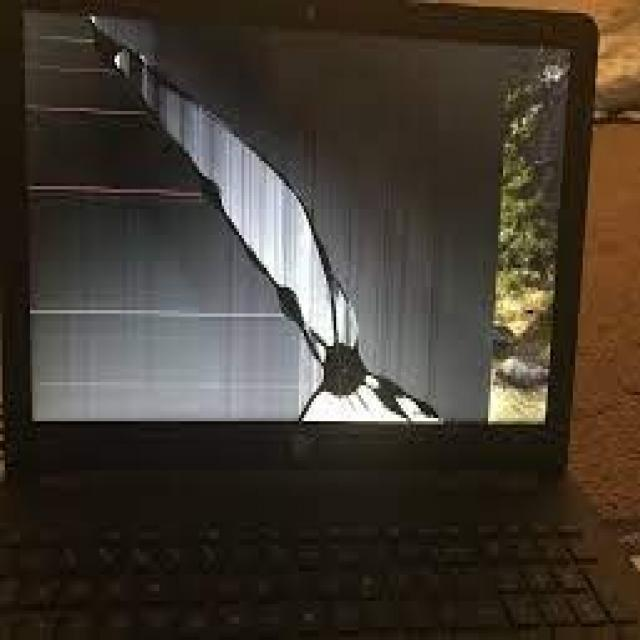Screen cracks: (22, 10, 496, 424)
